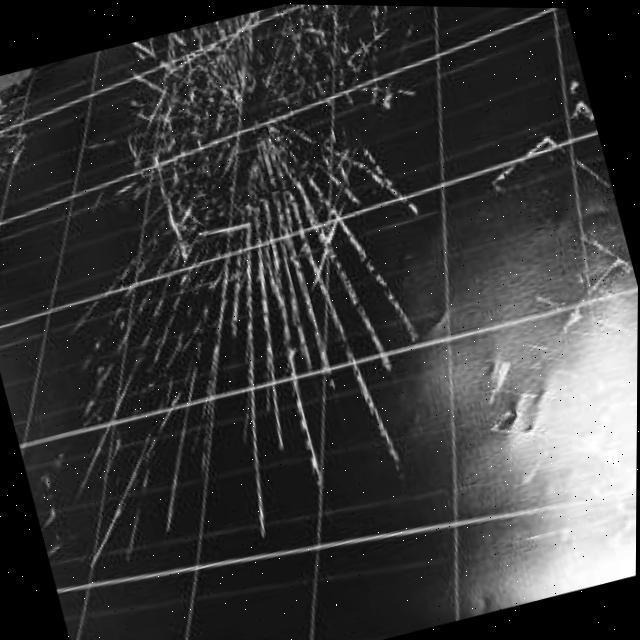Anomaly Solar Panel: (0, 3, 638, 640)
Structural Damage: (30, 47, 412, 482), (104, 11, 346, 258), (528, 291, 638, 583), (0, 75, 51, 222)
